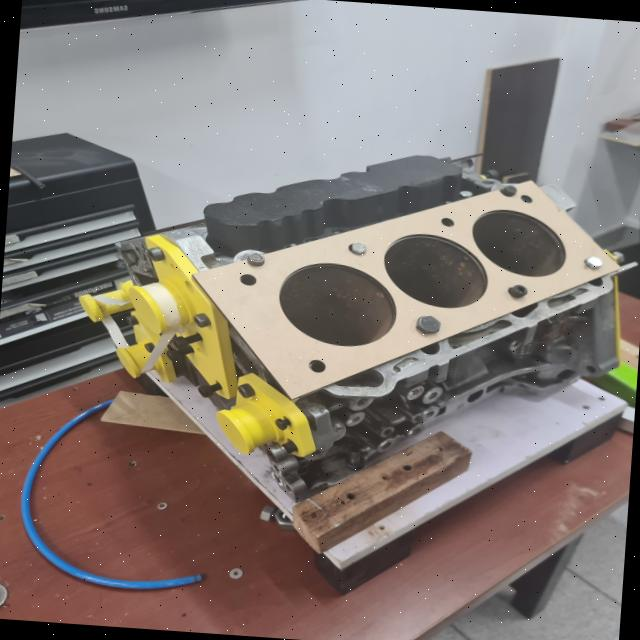tor_v1: (193, 181, 619, 398)
